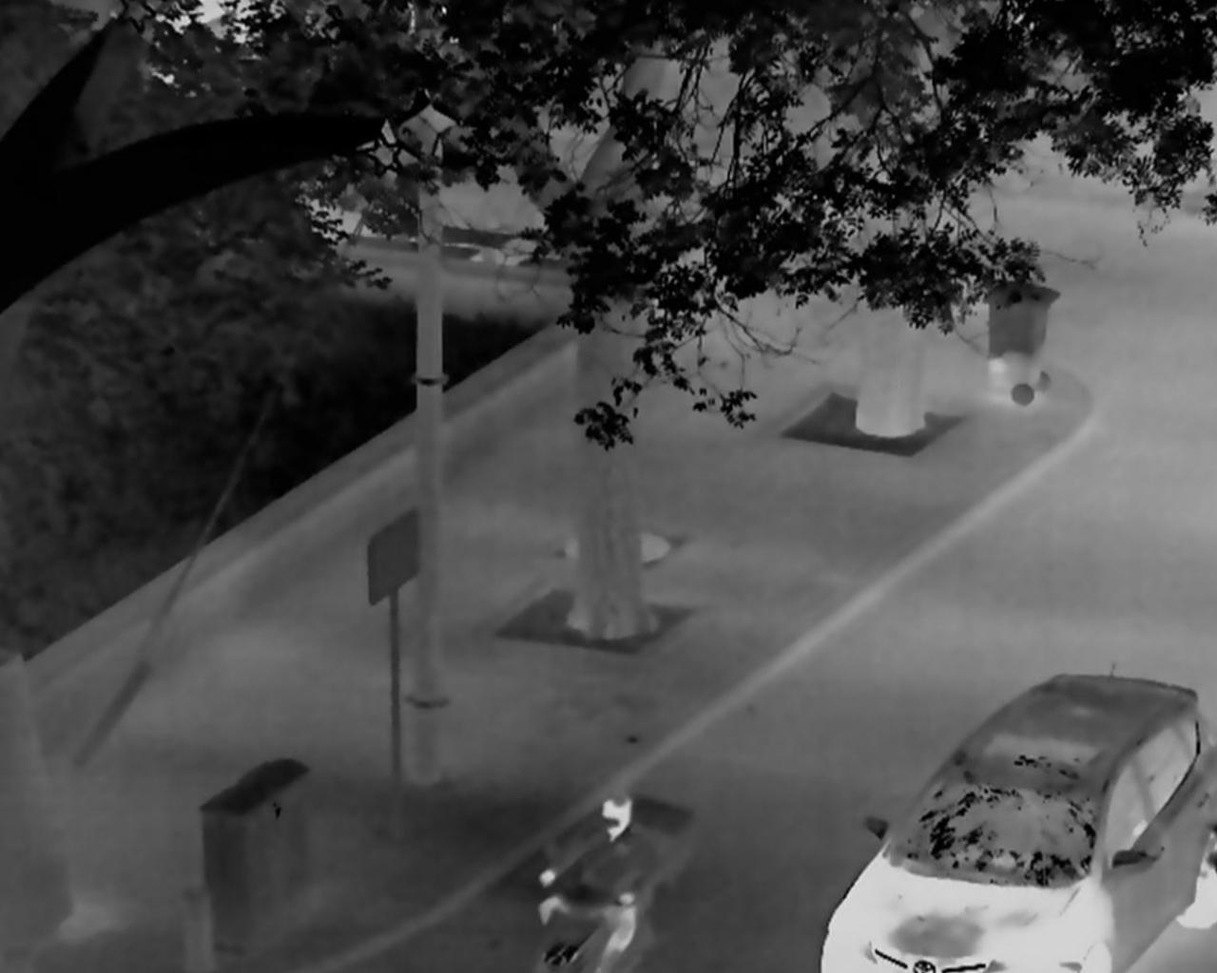person: (539, 792, 658, 973)
